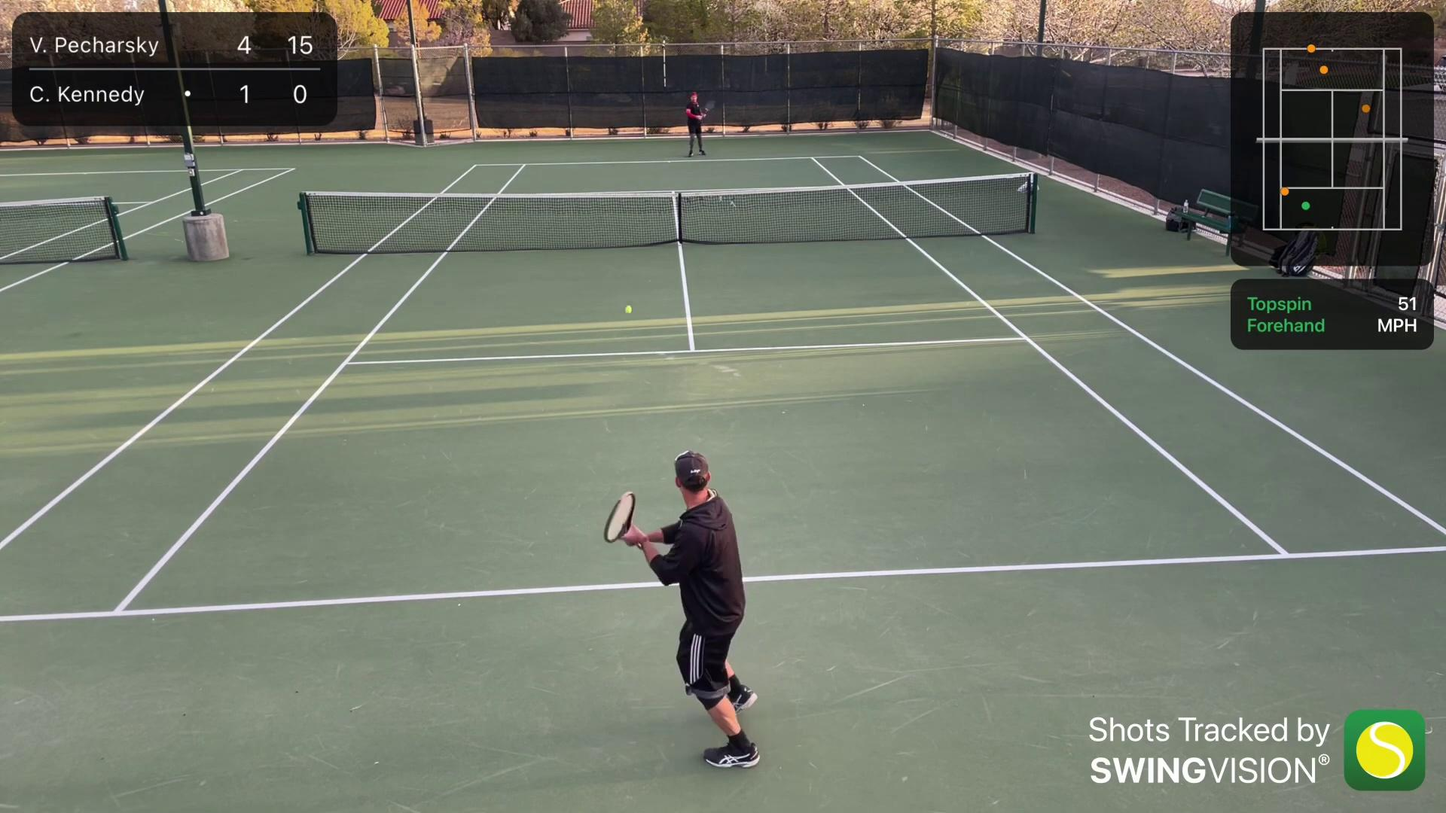ball: (624, 303, 633, 315)
